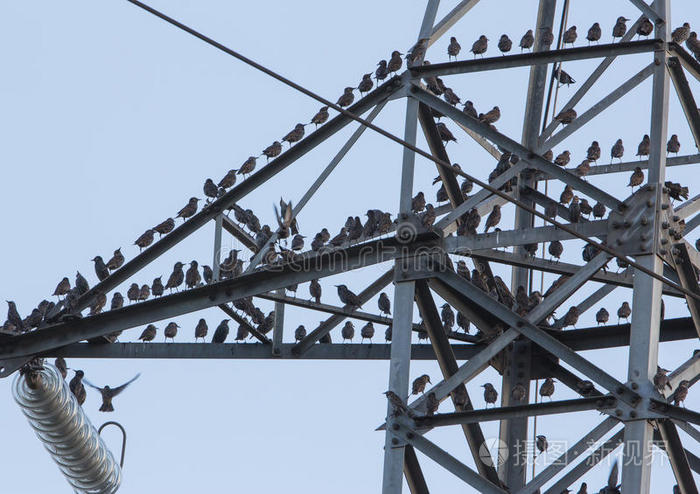insulator: (13, 361, 123, 491)
